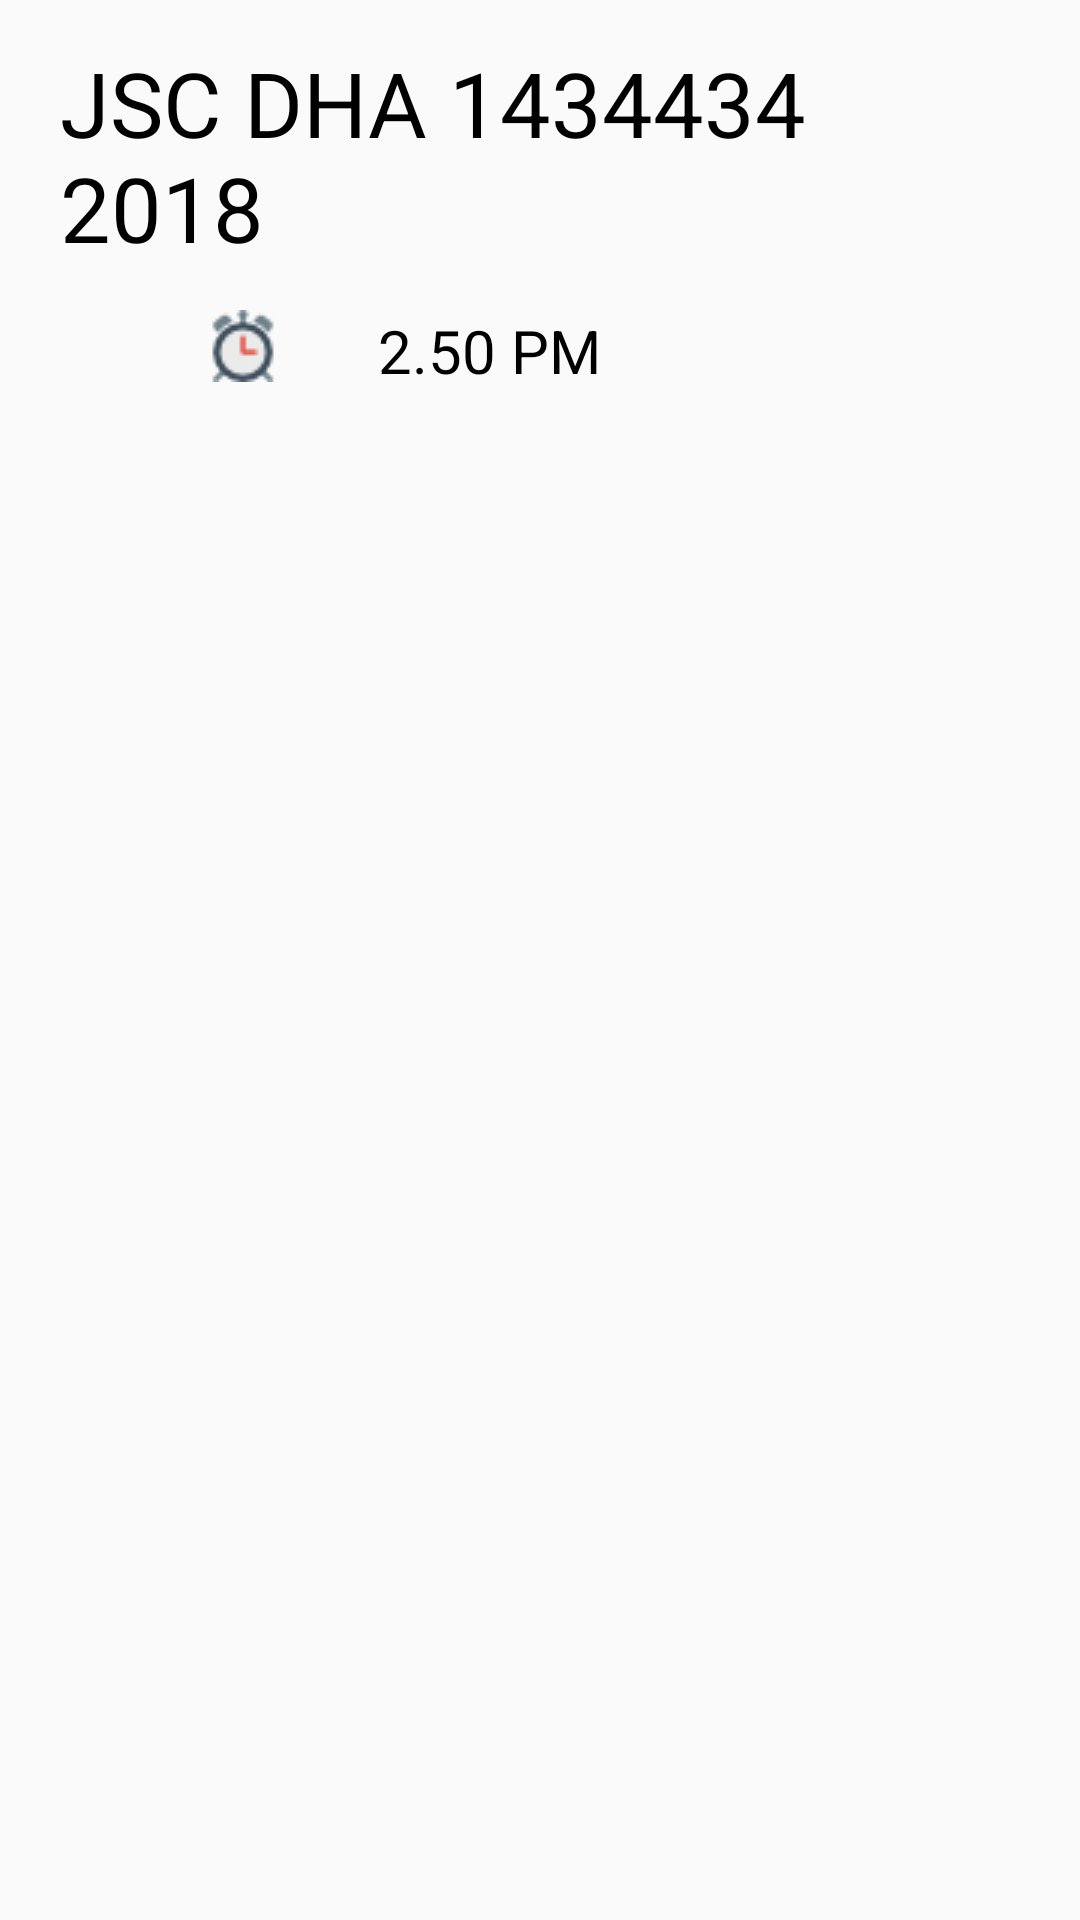

Named icons in this screenshot (1080 × 1920) and their bounding boxes, [x1,y1,x2,y2]:
alarm clock: [212,310,274,382]
